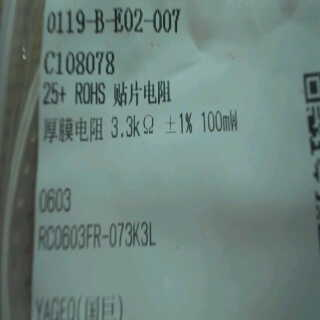3.3kO: (106, 109, 160, 145)
